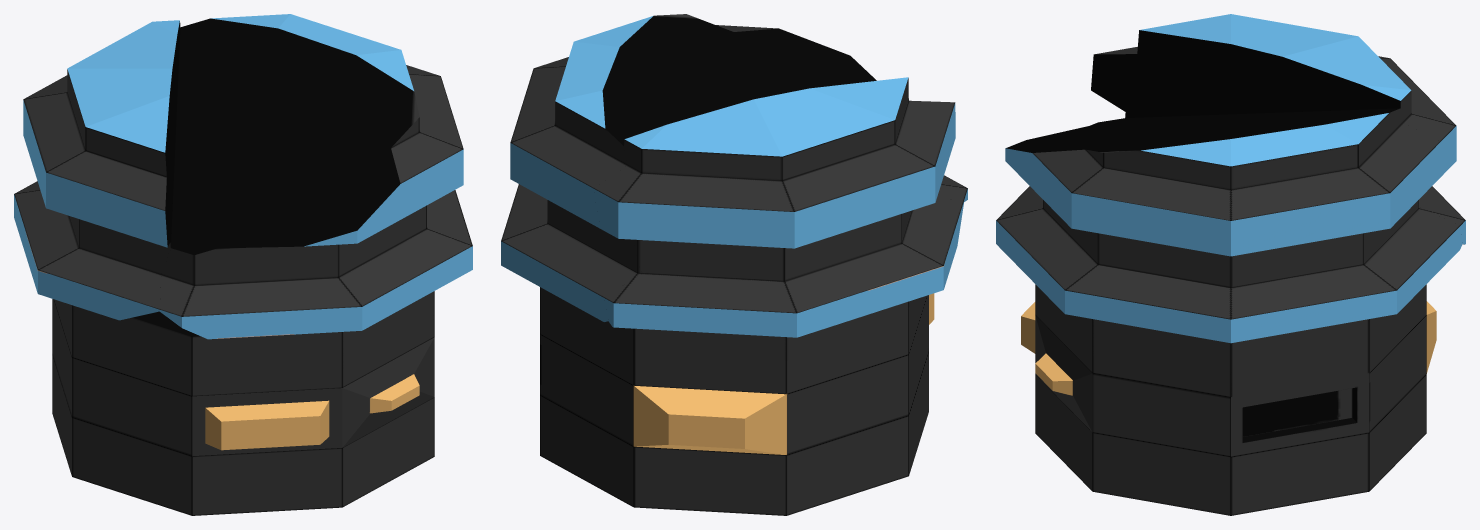
File: SSCShieldGen1_Destruct.fbx
3 renders of one model, left to right at view 1: azimuth 30°, elevation 25°; view 2: azimuth 150°, elevation 25°; view 3: azimuth 270°, elevation 25°, orthographic. The views are drawn at different scales.
Parts seen in each view (by area): view 1: SSCShieldGen1_Frag.00, SSCShieldGen1_Frag.02, SSCShieldGen1_Frag.01; view 2: SSCShieldGen1_Frag.01, SSCShieldGen1_Frag.02, SSCShieldGen1_Frag.00; view 3: SSCShieldGen1_Frag.00, SSCShieldGen1_Frag.02, SSCShieldGen1_Frag.01.
Boxes of the visible parts, bbox=[...] form: SSCShieldGen1_Frag.00: bbox=[159, 14, 472, 373]; SSCShieldGen1_Frag.02: bbox=[52, 299, 434, 515]; SSCShieldGen1_Frag.01: bbox=[14, 20, 180, 320]; SSCShieldGen1_Frag.01: bbox=[593, 77, 964, 360]; SSCShieldGen1_Frag.02: bbox=[540, 287, 934, 515]; SSCShieldGen1_Frag.00: bbox=[501, 14, 967, 321]; SSCShieldGen1_Frag.00: bbox=[996, 108, 1462, 395]; SSCShieldGen1_Frag.02: bbox=[1021, 284, 1436, 515]; SSCShieldGen1_Frag.01: bbox=[1091, 14, 1465, 244].
Size of the model in its own units: 3600 by 2999 by 3600.
